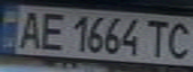1: (66, 12, 90, 53)
4: (121, 15, 145, 57)
6: (87, 14, 109, 54), (103, 15, 124, 55)
A: (12, 8, 48, 51)
C: (160, 19, 193, 61)
E: (33, 9, 69, 52)
T: (142, 17, 172, 59)
